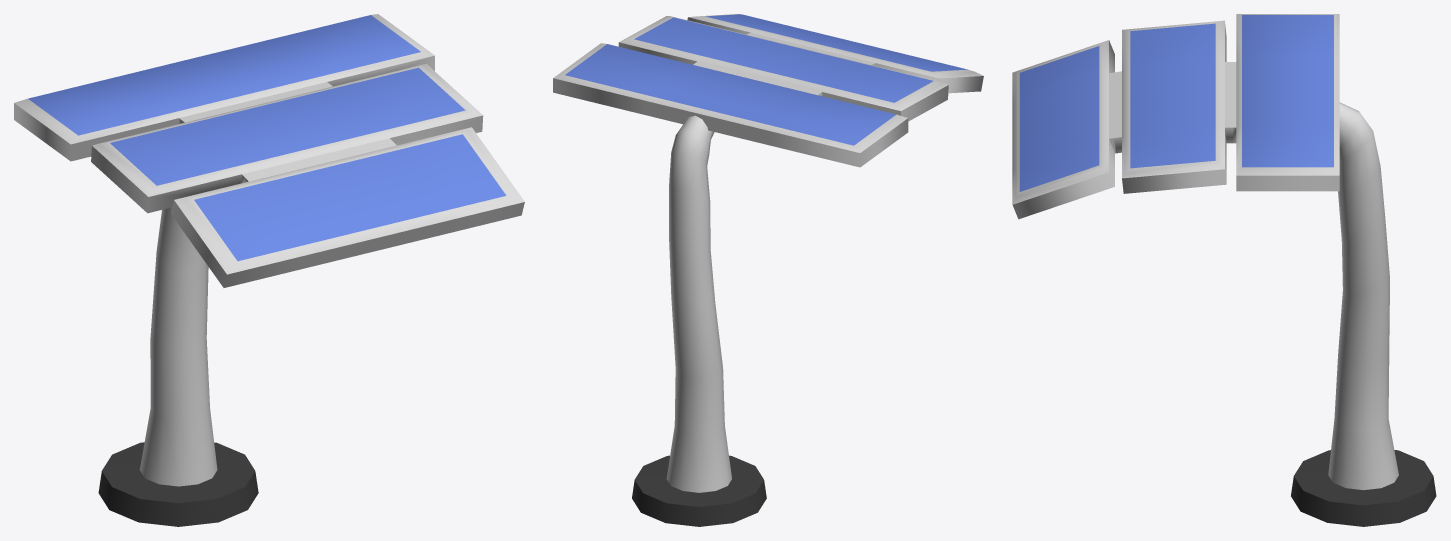
File: Base_Plant.fbx
The picture shows the model from 3 angles, left to right: view 1: azimuth 30°, elevation 25°; view 2: azimuth 150°, elevation 25°; view 3: azimuth 270°, elevation 25°; orthographic projection. The views are drawn at different scales.
Parts seen in each view (by area): view 1: Base_Plant; view 2: Base_Plant; view 3: Base_Plant.
Boxes of the visible parts, bbox=[...] form: Base_Plant: bbox=[14, 14, 524, 526]; Base_Plant: bbox=[553, 14, 983, 526]; Base_Plant: bbox=[1012, 14, 1436, 526].
Bounding box in the file's own units: 1.3 × 1.53 × 1.44.
